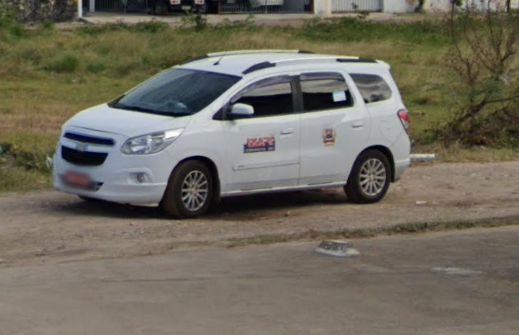car: (51, 43, 414, 219)
